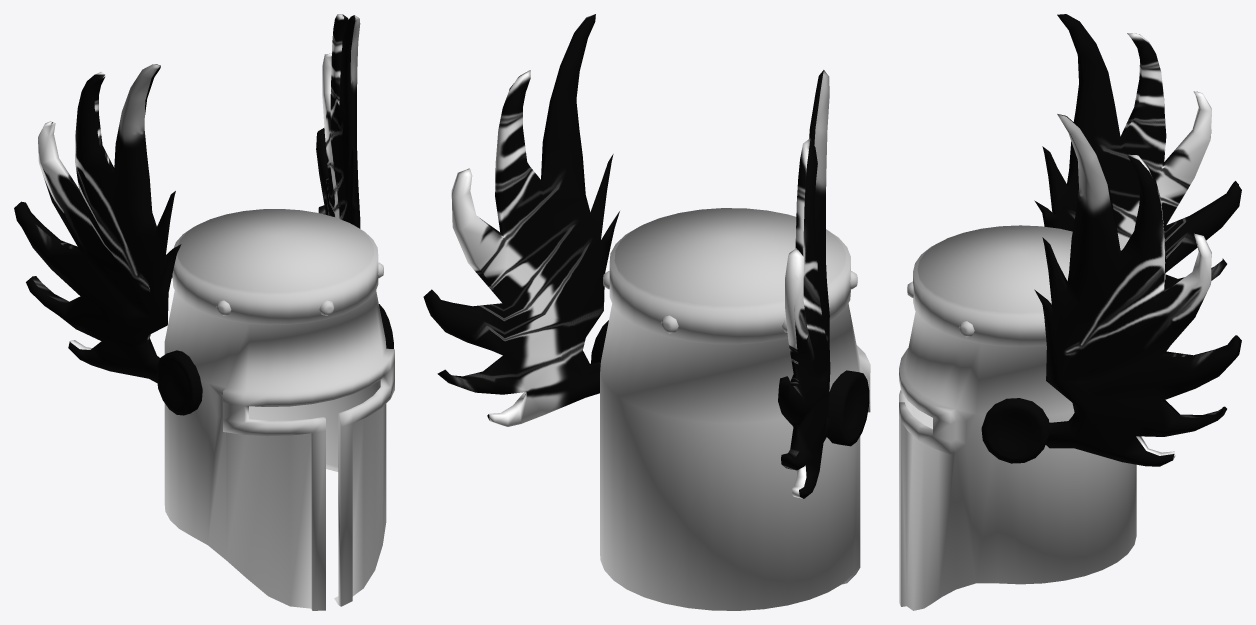
Rendered from Helm4.fbx.
3 renders of one model, left to right at view 1: azimuth 30°, elevation 25°; view 2: azimuth 150°, elevation 25°; view 3: azimuth 270°, elevation 25°, orthographic. The views are drawn at different scales.
Parts seen in each view (by area): view 1: Helm 4, Helm.002; view 2: Helm 4, Helm.002; view 3: Helm 4, Helm.002.
Boxes of the visible parts, x1=… form: Helm 4: x1=164, y1=209, x2=394, y2=610; Helm.002: x1=14, y1=14, x2=393, y2=415; Helm 4: x1=600, y1=208, x2=870, y2=610; Helm.002: x1=423, y1=14, x2=869, y2=498; Helm 4: x1=899, y1=225, x2=1136, y2=610; Helm.002: x1=981, y1=14, x2=1241, y2=466.
Bounding box in the file's own units: 4344 × 6762 × 3932.
